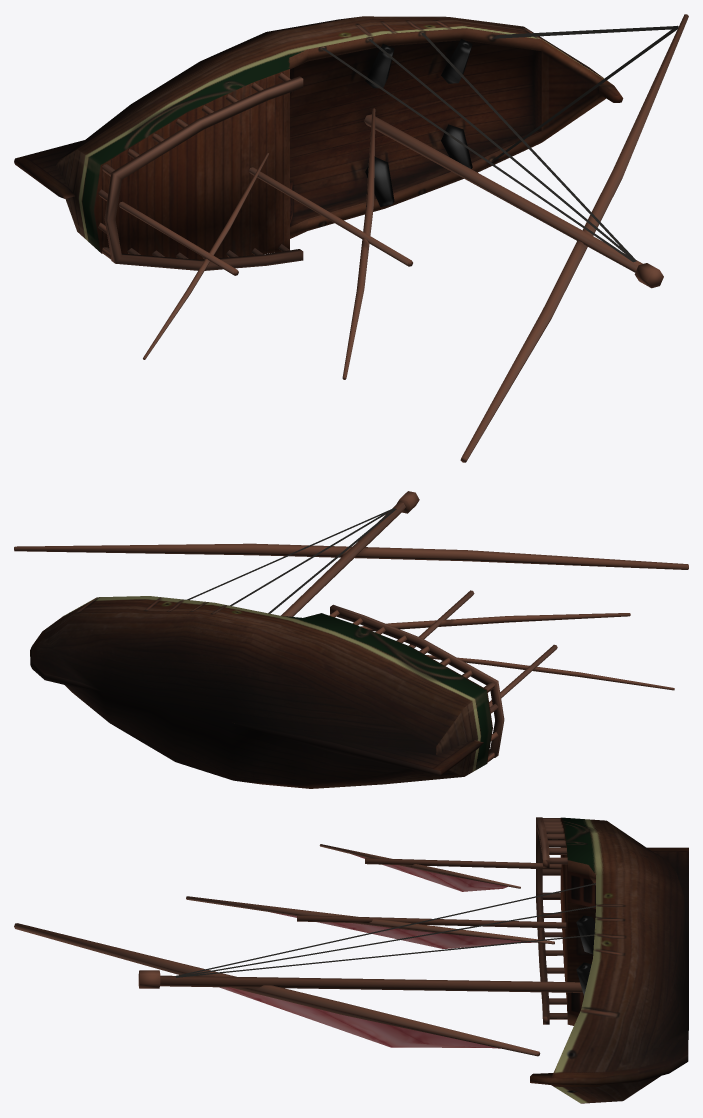
The model's file is 02_barkas_red.gltf.
The picture shows the model from 3 angles, top to bottom: view 1: azimuth 30°, elevation 25°; view 2: azimuth 150°, elevation 25°; view 3: azimuth 270°, elevation 25°; orthographic projection. The views are drawn at different scales.
Parts seen in each view (by area): view 1: 02-barkas; view 2: 02-barkas; view 3: 02-barkas.
Boxes of the visible parts, x1,y1,x2,y2 form: 02-barkas: (14, 14, 688, 462); 02-barkas: (14, 491, 688, 788); 02-barkas: (14, 817, 688, 1103).
Bounding box in the file's own units: 524495 × 139277 × 509176.
